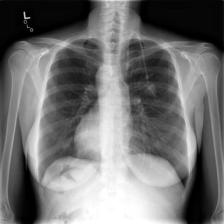normal: (31, 33, 194, 191)
